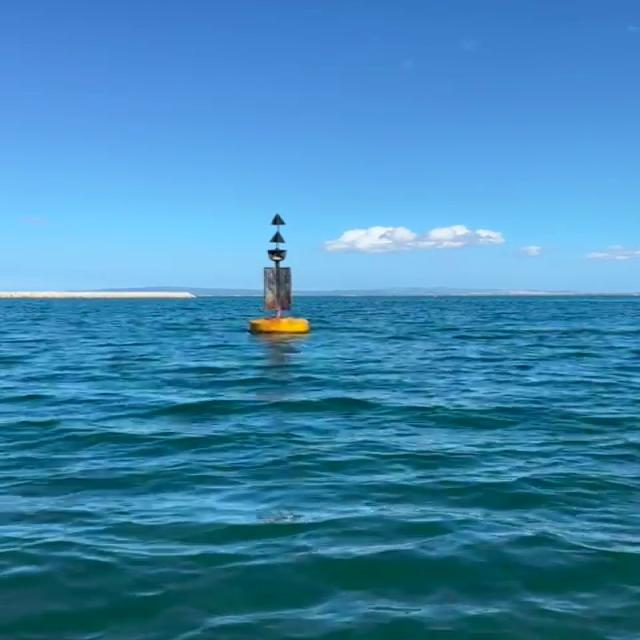marque: (253, 210, 317, 335)
